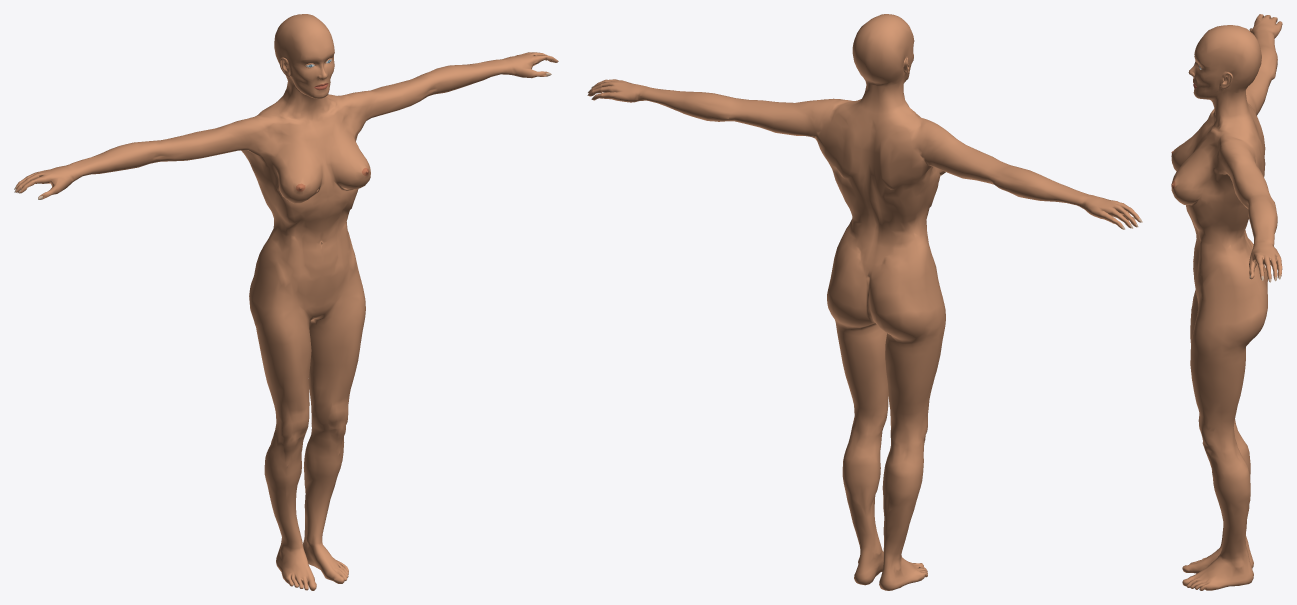
3 renders of one model, left to right at view 1: azimuth 30°, elevation 25°; view 2: azimuth 150°, elevation 25°; view 3: azimuth 270°, elevation 25°, orthographic. The views are drawn at different scales.
Visible parts, largest first — view 1: chest, rThigh, lThigh, hip, head, abdomen, lShin, rShin, rShldr, lShldr, rForeArm, rCollar (+7 smaller); view 2: hip, rThigh, lThigh, chest, rShin, lShin, head, abdomen, lShldr, rShldr, rCollar, rForeArm (+7 smaller); view 3: lThigh, hip, head, chest, lShin, abdomen, lShldr, lFoot, lCollar, lForeArm, lHand, neck (+7 smaller).
Part boxes in pixels (x1=…): chest: x1=241, y1=131, x2=370, y2=216; rThigh: x1=249, y1=289, x2=316, y2=443; lThigh: x1=308, y1=287, x2=365, y2=430; hip: x1=250, y1=231, x2=362, y2=318; head: x1=274, y1=14, x2=334, y2=98; abdomen: x1=262, y1=194, x2=353, y2=259; lShin: x1=303, y1=425, x2=345, y2=543; rShin: x1=264, y1=434, x2=304, y2=548; rShldr: x1=166, y1=115, x2=269, y2=161; lShldr: x1=338, y1=80, x2=426, y2=126; rForeArm: x1=73, y1=139, x2=167, y2=175; rCollar: x1=253, y1=102, x2=318, y2=157; hip: x1=828, y1=225, x2=942, y2=322; rThigh: x1=871, y1=298, x2=945, y2=443; lThigh: x1=827, y1=290, x2=888, y2=433; chest: x1=818, y1=139, x2=945, y2=207; rShin: x1=882, y1=436, x2=925, y2=560; lShin: x1=842, y1=427, x2=882, y2=554; head: x1=852, y1=14, x2=914, y2=86; abdomen: x1=840, y1=190, x2=933, y2=248; lShldr: x1=740, y1=98, x2=844, y2=138; rShldr: x1=911, y1=120, x2=1004, y2=183; rCollar: x1=869, y1=108, x2=931, y2=168; rForeArm: x1=984, y1=163, x2=1084, y2=204; lThigh: x1=1190, y1=307, x2=1267, y2=452; hip: x1=1193, y1=237, x2=1267, y2=324; head: x1=1188, y1=25, x2=1261, y2=100; chest: x1=1171, y1=130, x2=1265, y2=222; lShin: x1=1204, y1=443, x2=1250, y2=558; abdomen: x1=1186, y1=206, x2=1248, y2=263; lShldr: x1=1217, y1=137, x2=1269, y2=207; lFoot: x1=1182, y1=553, x2=1253, y2=590; lCollar: x1=1198, y1=118, x2=1265, y2=174; lForeArm: x1=1245, y1=190, x2=1277, y2=242; lHand: x1=1249, y1=238, x2=1282, y2=282; neck: x1=1211, y1=90, x2=1252, y2=125.
Size of the model in its own units: 0.7047 by 0.6895 by 0.126.
